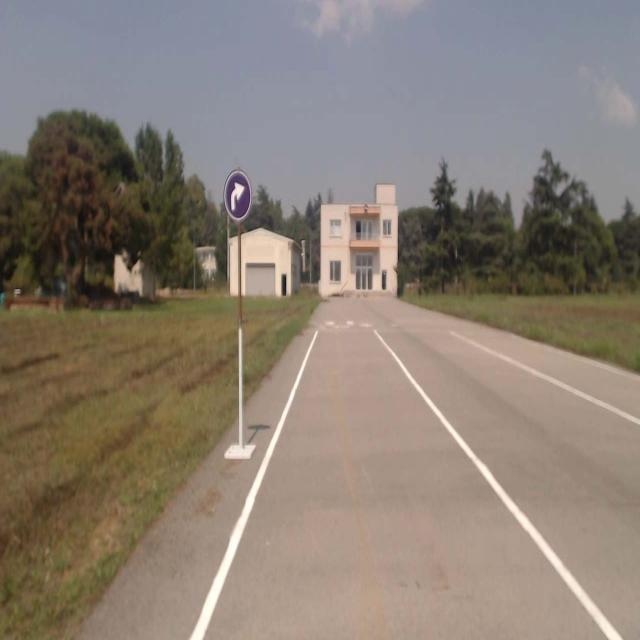sag: (224, 172, 252, 220)
